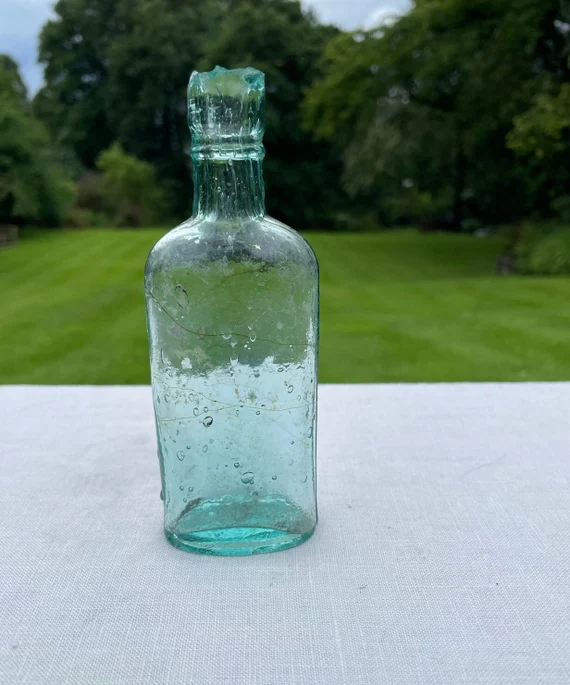glass_bottle: (132, 51, 339, 567)
